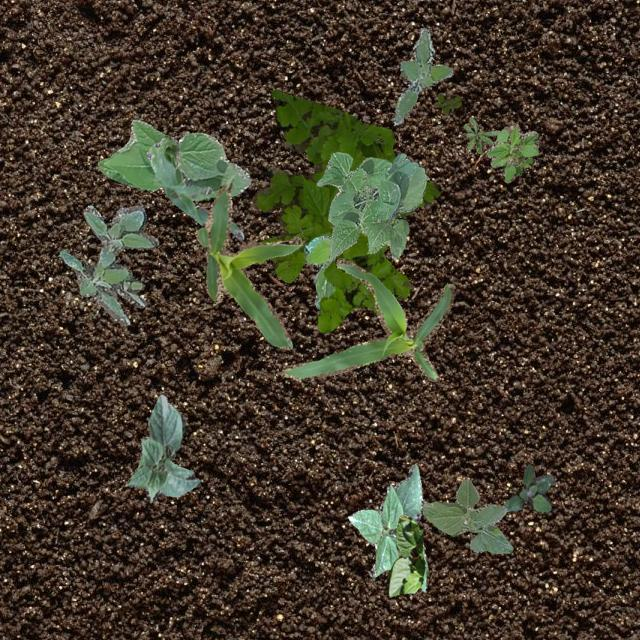crop: (282, 256, 452, 381), (195, 174, 302, 348), (96, 119, 250, 200), (316, 150, 426, 260), (346, 462, 426, 590), (146, 134, 242, 238), (124, 394, 200, 502), (422, 478, 512, 552), (384, 514, 424, 596), (302, 234, 336, 308)
weed: (250, 88, 440, 332), (59, 203, 158, 324), (392, 28, 452, 124), (486, 122, 538, 182), (503, 462, 552, 512), (462, 116, 498, 152), (432, 92, 460, 112)
